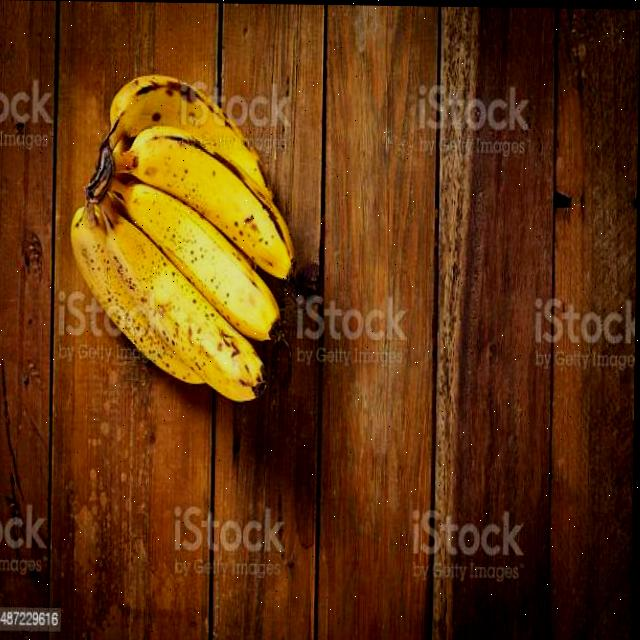banana: (64, 67, 306, 408)
